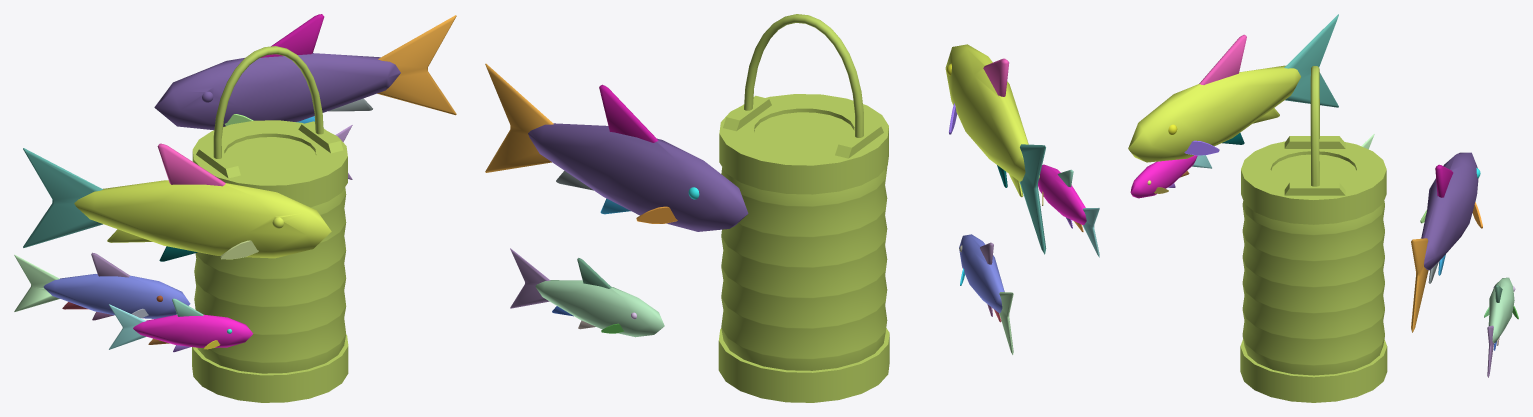
The picture shows the model from 3 angles, left to right: view 1: azimuth 30°, elevation 25°; view 2: azimuth 150°, elevation 25°; view 3: azimuth 270°, elevation 25°; orthographic projection. The views are drawn at different scales.
Parts seen in each view (by area): view 1: split_parent_0, split_parent_1, split_parent_7, Object_5.030, Object_9.958, Object_9.008, Object_5.060, Object_9.024, Object_9.244, Object_9.974, Object_9.484, Object_9.260 (+1 smaller); view 2: split_parent_0, split_parent_7, split_parent_1, Object_5.090, Object_9.958, Object_5.030, Object_9.008, Object_5.060, Object_9.974, Object_9.724, Object_9.024; view 3: split_parent_0, split_parent_1, split_parent_7, Object_9.008, Object_5.060, Object_5.090, Object_9.024, Object_9.958, Object_9.974, split_parent_18.
Part boxes in pixels (x1=…): split_parent_0: x1=192, y1=46, x2=348, y2=402; split_parent_1: x1=74, y1=180, x2=331, y2=258; split_parent_7: x1=154, y1=53, x2=400, y2=130; Object_5.030: x1=43, y1=274, x2=190, y2=318; Object_9.958: x1=377, y1=15, x2=456, y2=115; Object_9.008: x1=23, y1=148, x2=103, y2=247; Object_5.060: x1=133, y1=314, x2=253, y2=347; Object_9.024: x1=157, y1=143, x2=225, y2=186; Object_9.244: x1=14, y1=254, x2=59, y2=311; Object_9.974: x1=261, y1=14, x2=324, y2=57; Object_9.484: x1=109, y1=304, x2=146, y2=349; Object_9.260: x1=91, y1=252, x2=129, y2=277; split_parent_0: x1=718, y1=14, x2=889, y2=402; split_parent_7: x1=528, y1=123, x2=748, y2=231; split_parent_1: x1=945, y1=44, x2=1028, y2=197; Object_5.090: x1=535, y1=280, x2=664, y2=337; Object_9.958: x1=485, y1=63, x2=553, y2=172; Object_5.030: x1=959, y1=234, x2=1004, y2=313; Object_9.008: x1=1019, y1=144, x2=1046, y2=254; Object_5.060: x1=1038, y1=164, x2=1086, y2=224; Object_9.974: x1=599, y1=84, x2=658, y2=142; Object_9.724: x1=510, y1=248, x2=550, y2=308; Object_9.024: x1=983, y1=58, x2=1009, y2=96; split_parent_0: x1=1240, y1=66, x2=1387, y2=402; split_parent_1: x1=1128, y1=65, x2=1300, y2=162; split_parent_7: x1=1421, y1=152, x2=1478, y2=270; Object_9.008: x1=1284, y1=14, x2=1338, y2=107; Object_5.060: x1=1130, y1=155, x2=1197, y2=198; Object_5.090: x1=1488, y1=277, x2=1514, y2=343; Object_9.024: x1=1199, y1=34, x2=1246, y2=84; Object_9.958: x1=1411, y1=238, x2=1428, y2=332; Object_9.974: x1=1435, y1=164, x2=1453, y2=197; split_parent_18: x1=1184, y1=140, x2=1219, y2=155.
Bounding box in the file's own units: 1 × 0.6516 × 0.7661.
